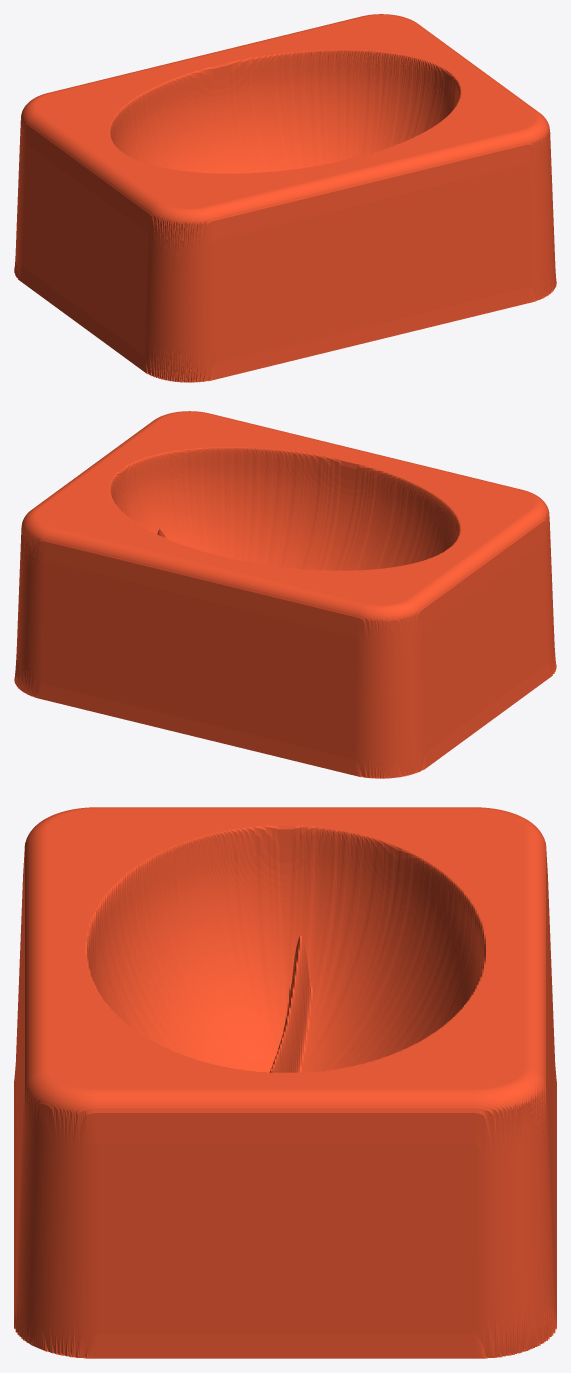
The model's file is mold.glb.
3 renders of one model, top to bottom at view 1: azimuth 30°, elevation 25°; view 2: azimuth 150°, elevation 25°; view 3: azimuth 270°, elevation 25°, orthographic. The views are drawn at different scales.
Visible parts, largest first — view 1: geometry_0; view 2: geometry_0; view 3: geometry_0.
Boxes of the visible parts, <box> form: geometry_0: <box>14,14,556,382</box>; geometry_0: <box>14,411,556,778</box>; geometry_0: <box>14,807,556,1358</box>.
Size of the model in its own units: 0.0798 by 0.031 by 0.0596.
